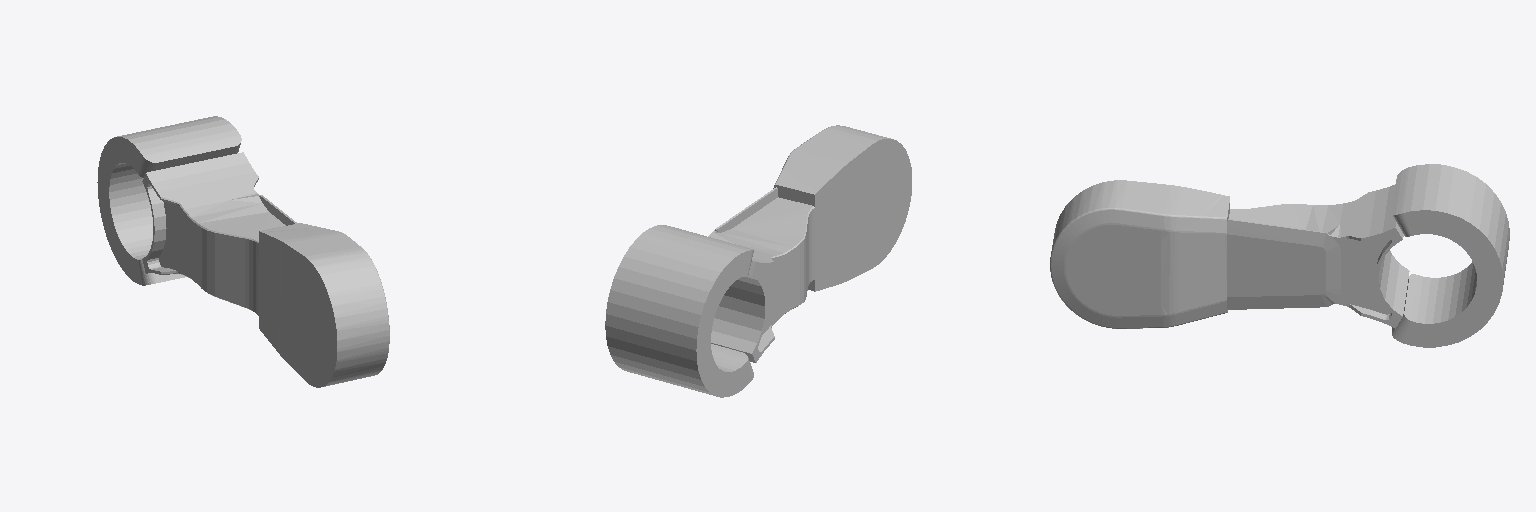
Rendered from thigh.obj.
The picture shows the model from 3 angles: view 1: azimuth 30°, elevation 25°; view 2: azimuth 150°, elevation 25°; view 3: azimuth 270°, elevation 25°; orthographic projection.
Parts seen in each view (by area): view 1: thigh; view 2: thigh; view 3: thigh.
Boxes of the visible parts, x1=… form: thigh: x1=97, y1=116, x2=389, y2=387; thigh: x1=605, y1=125, x2=911, y2=397; thigh: x1=1050, y1=164, x2=1509, y2=347.
Bounding box in the file's own units: 0.1078 × 0.1388 × 0.4211.